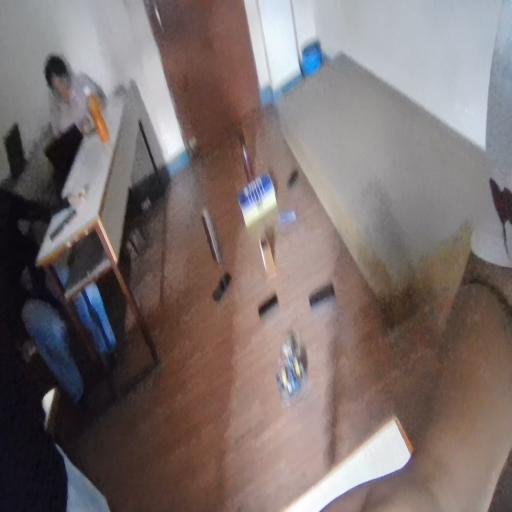Bottle: (238, 126, 256, 185)
car: (269, 320, 317, 407)
